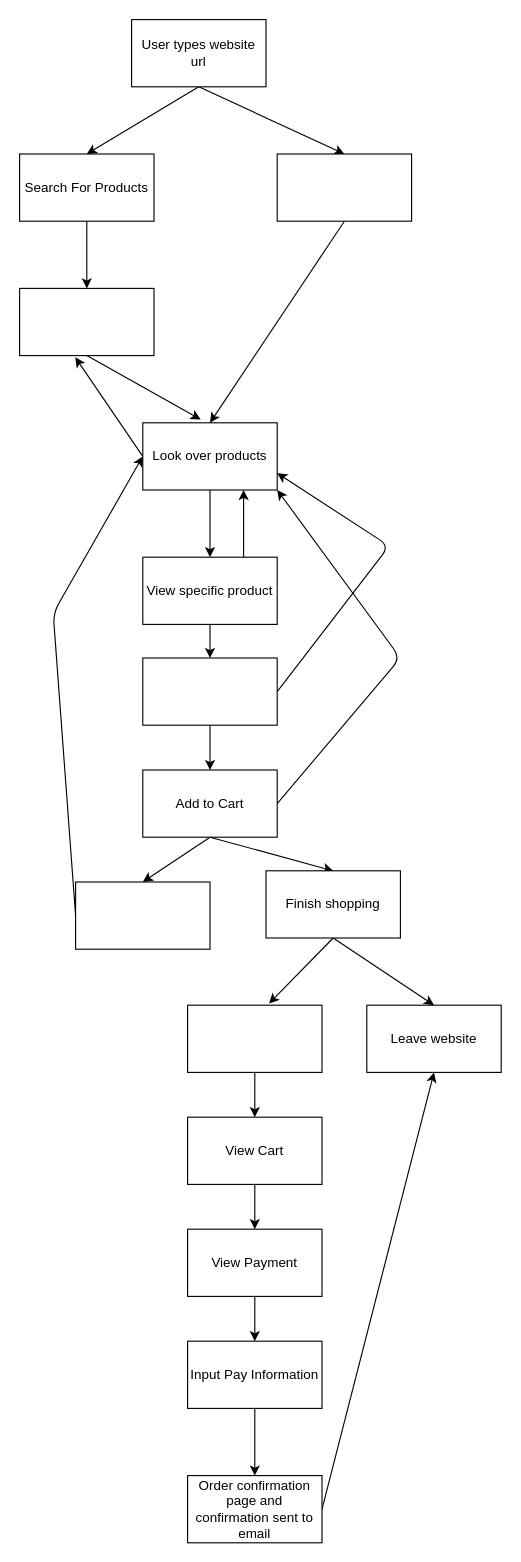
Some shapes in this 521 by 1562 pixel diagram are drawn without their labels. Each missing label, with the box of its shape:
Explore products on homepage: (276, 153, 412, 221)
Go to checkout: (186, 1004, 322, 1072)
Go to products homepage: (142, 657, 277, 725)
Keep shopping: (74, 881, 210, 949)
Provide search input: (18, 287, 154, 356)
